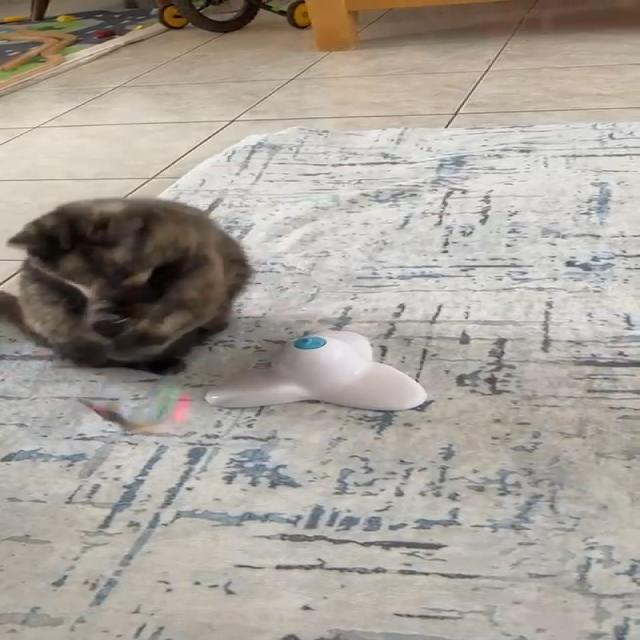authorized: (1, 196, 252, 375)
